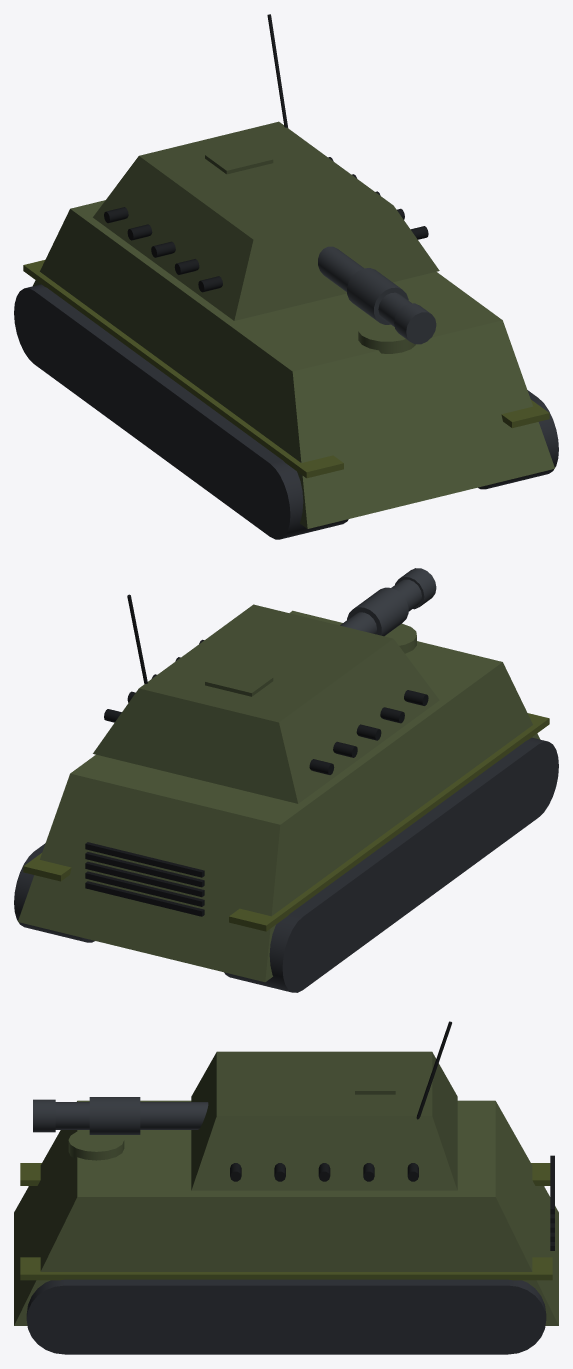
The picture shows the model from 3 angles, top to bottom: view 1: azimuth 30°, elevation 25°; view 2: azimuth 150°, elevation 25°; view 3: azimuth 270°, elevation 25°; orthographic projection. The views are drawn at different scales.
Visible parts, largest first — view 1: 车体, 无人炮塔, 左履带, 左主动轮 (×3), 左挡泥板, 主炮管, 抽烟器, 驾驶员舱盖, 车长瞄准镜, 炮口装置, 右主动轮, 右挡泥板; view 2: 车体, 无人炮塔, 左履带, 左主动轮 (×3), 发动机格栅 (×5), 左挡泥板, 抽烟器, 车长瞄准镜, 主炮管, 右主动轮, 右挡泥板, 炮口装置 (+1 smaller); view 3: 车体, 无人炮塔, 右履带, 右主动轮 (×3), 右挡泥板, 主炮管, 抽烟器, 驾驶员舱盖, 车长瞄准镜, 左挡泥板, 炮口装置, 通讯天线.
Boxes of the visible parts, <box> form: 车体: <box>33,200,554,528</box>; 无人炮塔: <box>93,121,439,320</box>; 左履带: <box>34,288,282,536</box>; 左主动轮 (×3): <box>14,284,348,539</box>; 左挡泥板: <box>23,260,343,478</box>; 主炮管: <box>318,246,433,341</box>; 抽烟器: <box>347,268,408,324</box>; 驾驶员舱盖: <box>358,318,415,353</box>; 车长瞄准镜: <box>205,143,273,174</box>; 炮口装置: <box>394,303,436,344</box>; 右主动轮: <box>478,398,558,489</box>; 右挡泥板: <box>501,400,549,428</box>; 车体: <box>18,610,540,982</box>; 无人炮塔: <box>93,604,439,803</box>; 左履带: <box>290,741,538,989</box>; 左主动轮 (×3): <box>224,737,558,992</box>; 发动机格栅 (×5): <box>85,842,204,916</box>; 左挡泥板: <box>229,713,549,931</box>; 抽烟器: <box>347,587,408,636</box>; 车长瞄准镜: <box>205,666,273,696</box>; 主炮管: <box>340,579,421,634</box>; 右主动轮: <box>14,851,94,942</box>; 右挡泥板: <box>23,853,71,881</box>; 炮口装置: <box>395,568,436,609</box>; 车体: <box>14,1100,558,1325</box>; 无人炮塔: <box>191,1051,457,1190</box>; 右履带: <box>64,1279,508,1354</box>; 右主动轮 (×3): <box>26,1279,546,1354</box>; 右挡泥板: <box>20,1257,552,1280</box>; 主炮管: <box>55,1102,208,1129</box>; 抽烟器: <box>89,1097,140,1134</box>; 驾驶员舱盖: <box>68,1130,124,1160</box>; 车长瞄准镜: <box>355,1069,395,1094</box>; 左挡泥板: <box>20,1163,550,1185</box>; 炮口装置: <box>33,1099,55,1132</box>; 通讯天线: <box>416,1021,451,1119</box>.
Bounding box in the file's own units: 2.3 × 2.64 × 4.3.
